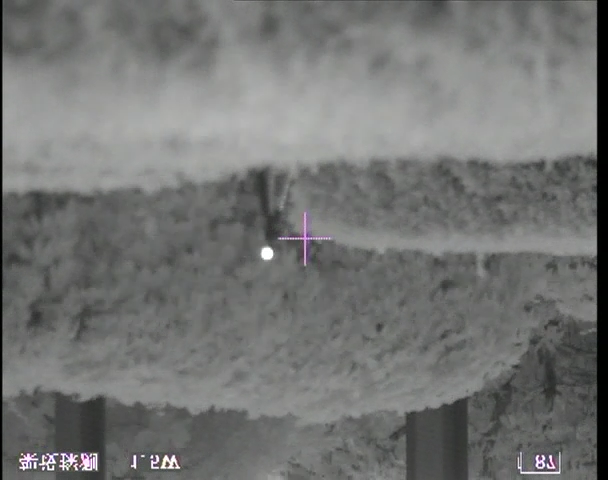my: (259, 246, 274, 262)
